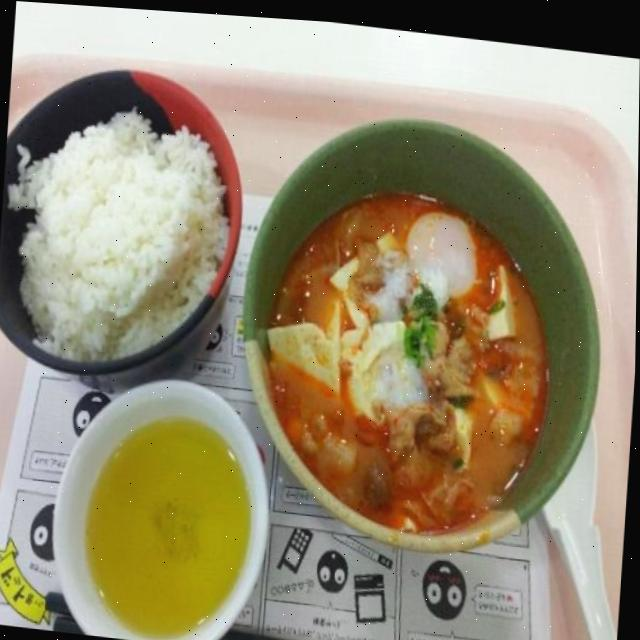米饭主食: (0, 23, 255, 384)
